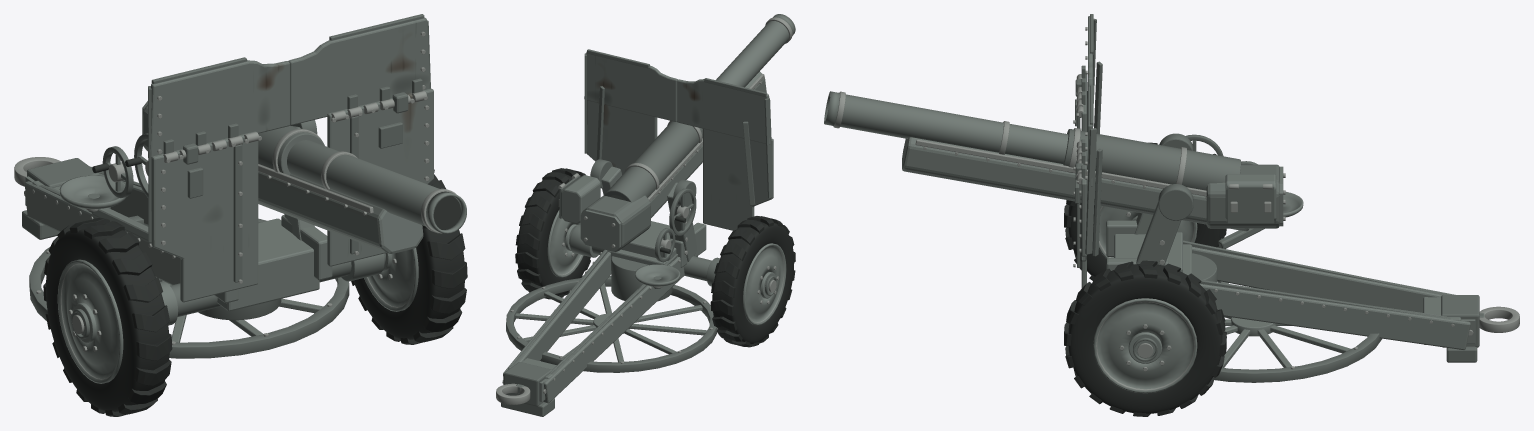
File: qf25-visual-prop.glb
3 views of the same model, side by side, from view 1: azimuth 30°, elevation 25°; view 2: azimuth 150°, elevation 25°; view 3: azimuth 270°, elevation 25° (orthographic). The views are drawn at different scales.
Parts seen in each view (by area): view 1: QF25_Lower_Shield_-1, QF25_Upper_Shield_1, QF25_Upper_Shield_-1, QF25_Wheel_Carcass_-1, QF25_Lower_Shield_1, QF25_Lower_Exterior_Shroud, QF25_Main_Closed_Barrel, QF25_Wheel_Dished_Disc_-1_-1, QF25_Axle_Center_Shell, QF25_Platform_Rim, QF25_Wheel_Carcass_1, QF25_Trail_Side_Beam_-1 (+38 smaller); view 2: QF25_Lower_Shield_-1, QF25_Upper_Shield_1, QF25_Upper_Shield_-1, QF25_Wheel_Carcass_-1, QF25_Platform_Rim, QF25_Lower_Shield_1, QF25_Trail_Side_Beam_-1, QF25_Rear_Outer_Sleeve, QF25_Trail_Side_Beam_1, QF25_Wheel_Dished_Disc_-1_-1, QF25_Wheel_Carcass_1, QF25_Main_Closed_Barrel (+40 smaller); view 3: QF25_Wheel_Carcass_1, QF25_Lower_Exterior_Shroud, QF25_Trail_Side_Beam_1, QF25_Main_Closed_Barrel, QF25_Wheel_Dished_Disc_1_1, QF25_Trail_Side_Beam_-1, QF25_Rear_Outer_Sleeve, QF25_Platform_Rim, QF25_Rear_Closed_Housing, QF25_Rear_Box_Lid, QF25_Shroud_Edge_1, QF25_Carriage_Raked_Side_1 (+12 smaller).
Boxes of the visible parts, left/top/right/bottom form: QF25_Lower_Shield_-1: left=151, top=131, right=258, bottom=302; QF25_Upper_Shield_1: left=288, top=17, right=429, bottom=125; QF25_Upper_Shield_-1: left=148, top=60, right=289, bottom=157; QF25_Wheel_Carcass_-1: left=46, top=224, right=169, bottom=411; QF25_Lower_Shield_1: left=327, top=88, right=433, bottom=266; QF25_Lower_Exterior_Shroud: left=258, top=171, right=423, bottom=253; QF25_Main_Closed_Barrel: left=287, top=140, right=439, bottom=225; QF25_Wheel_Dished_Disc_-1_-1: left=57, top=259, right=123, bottom=383; QF25_Axle_Center_Shell: left=217, top=218, right=319, bottom=311; QF25_Platform_Rim: left=29, top=215, right=349, bottom=358; QF25_Wheel_Carcass_1: left=353, top=174, right=464, bottom=339; QF25_Trail_Side_Beam_-1: left=24, top=181, right=180, bottom=284; QF25_Lower_Shield_-1: left=703, top=129, right=773, bottom=230; QF25_Upper_Shield_1: left=584, top=51, right=678, bottom=121; QF25_Upper_Shield_-1: left=677, top=79, right=770, bottom=144; QF25_Wheel_Carcass_-1: left=712, top=221, right=794, bottom=344; QF25_Platform_Rim: left=506, top=276, right=717, bottom=372; QF25_Lower_Shield_1: left=587, top=100, right=657, bottom=174; QF25_Trail_Side_Beam_-1: left=543, top=257, right=684, bottom=403; QF25_Rear_Outer_Sleeve: left=604, top=121, right=702, bottom=202; QF25_Trail_Side_Beam_1: left=503, top=250, right=611, bottom=375; QF25_Wheel_Dished_Disc_-1_-1: left=743, top=243, right=786, bottom=325; QF25_Wheel_Carcass_1: left=517, top=173, right=590, bottom=295; QF25_Main_Closed_Barrel: left=610, top=21, right=789, bottom=200; QF25_Wheel_Carcass_1: left=1068, top=264, right=1222, bottom=413; QF25_Lower_Exterior_Shroud: left=902, top=137, right=1248, bottom=231; QF25_Trail_Side_Beam_1: left=1199, top=283, right=1470, bottom=349; QF25_Main_Closed_Barrel: left=834, top=94, right=1068, bottom=163; QF25_Wheel_Dished_Disc_1_1: left=1093, top=298, right=1197, bottom=393; QF25_Trail_Side_Beam_-1: left=1192, top=246, right=1455, bottom=312; QF25_Rear_Outer_Sleeve: left=1063, top=129, right=1241, bottom=190; QF25_Platform_Rim: left=1214, top=333, right=1381, bottom=382; QF25_Rear_Closed_Housing: left=1206, top=164, right=1279, bottom=228; QF25_Rear_Box_Lid: left=1227, top=185, right=1274, bottom=223; QF25_Shroud_Edge_1: left=915, top=139, right=1206, bottom=196; QF25_Carriage_Raked_Side_1: left=1136, top=202, right=1181, bottom=265.
Size of the model in its own units: 2.21 by 2.06 by 4.55.
Materials: 6 (3 with a texture image).
